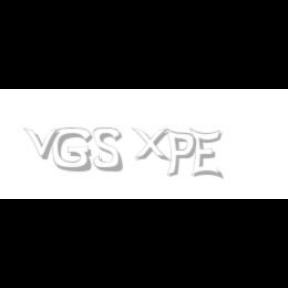E: (190, 128, 222, 180)
G: (52, 128, 92, 172)
P: (165, 128, 197, 178)
S: (94, 128, 124, 172)
v: (23, 128, 63, 160)
x: (132, 128, 174, 162)
